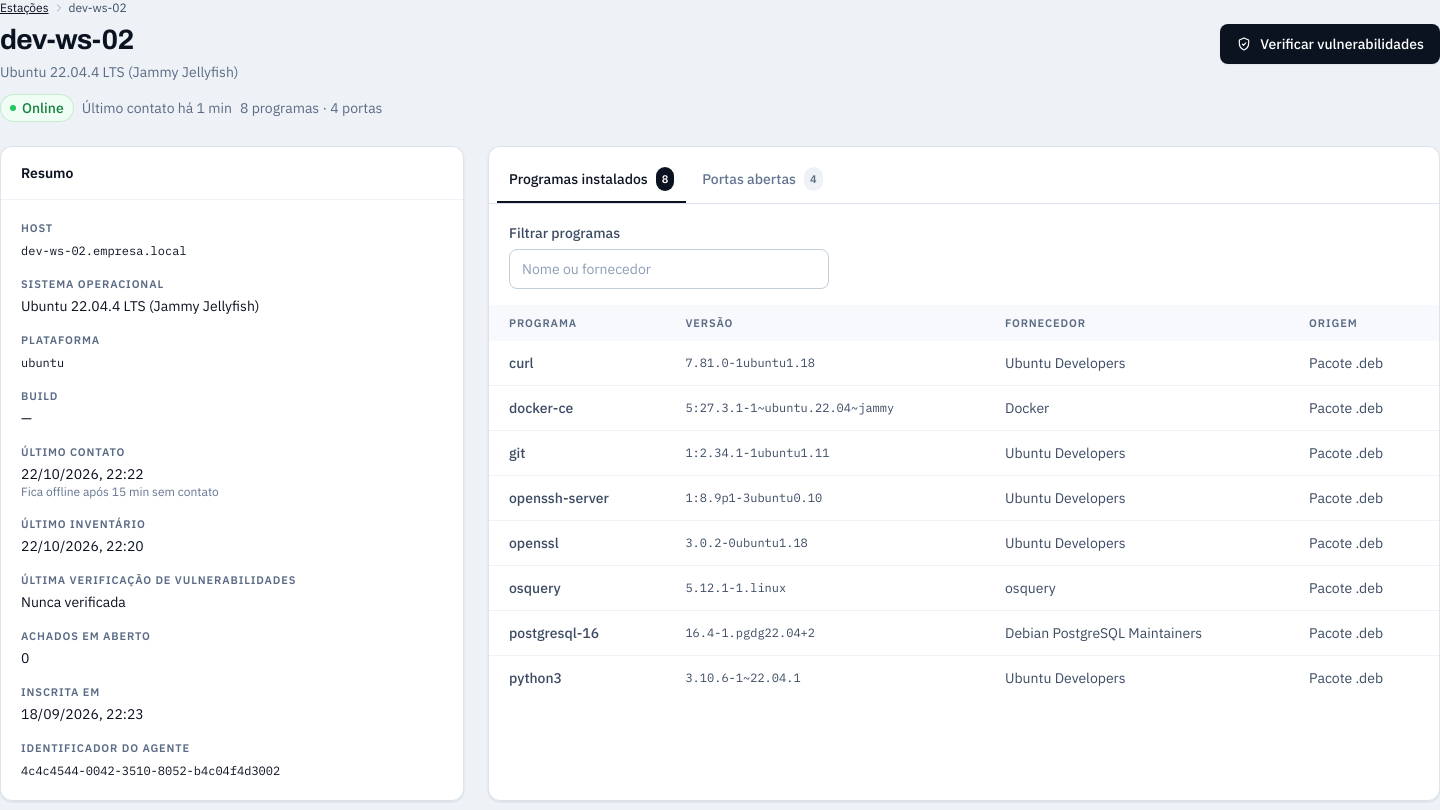
B14 — verificar vulnerabilidades no detalhe da estação › DT17: verificação incompleta avisa que nada foi registrado e mostra os motivos
This screenshot has width=1440, height=810.
Expected: the heading "dev-ws-02" is shown, [0,24,133,55]
Step 1. Click the button "Verificar vulnerabilidades" → (1330, 44), box [1220,24,1439,64]
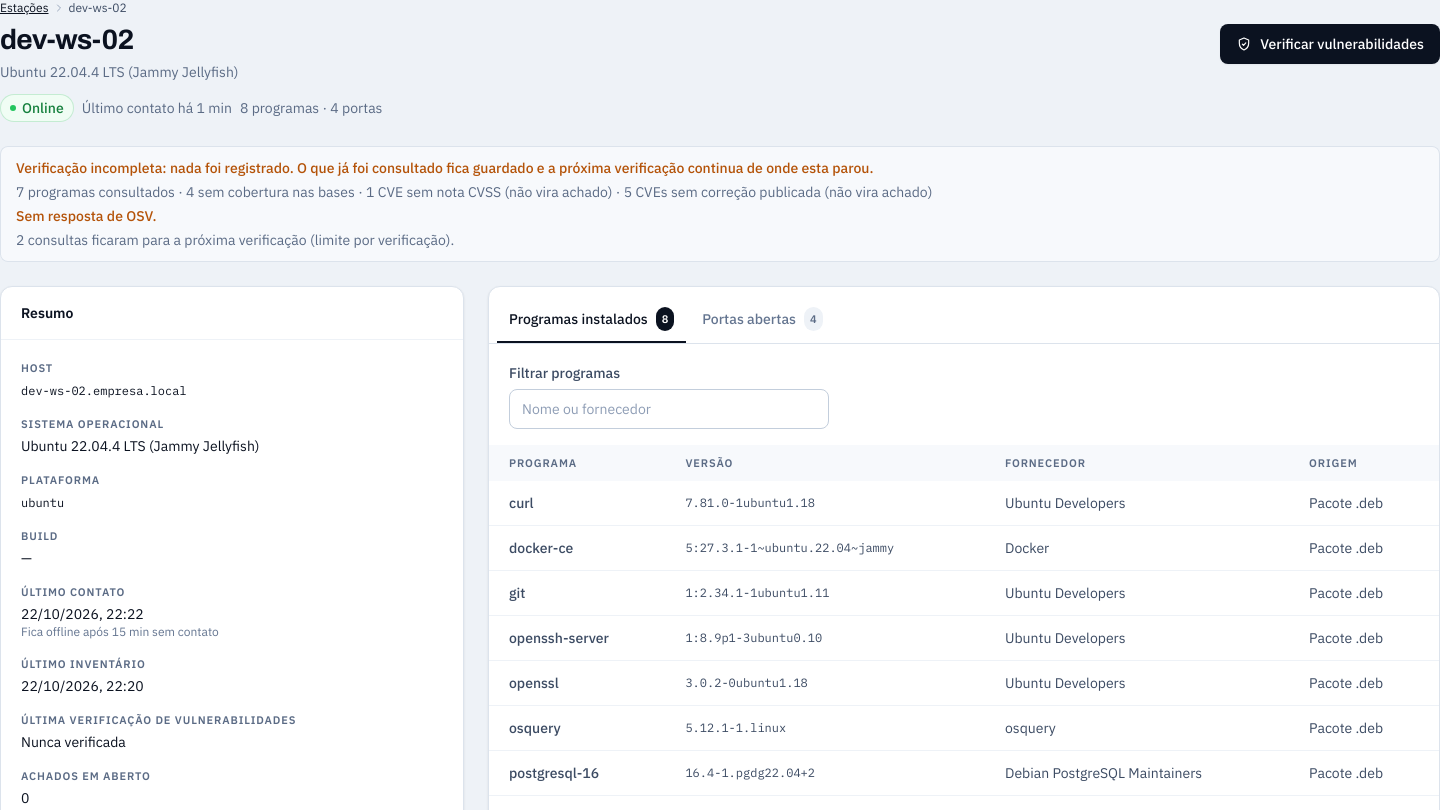
Expected: the message with test id "verification-result" shows "Verificação incompleta: nada foi registrado.", [16,159,874,177]
Expected: the message with test id "verification-result" shows "5 CVEs sem correção publicada (não vira achado)", [612,183,932,201]
Expected: the message with test id "verification-result" shows "Sem resposta de OSV", [0,146,1439,262]
